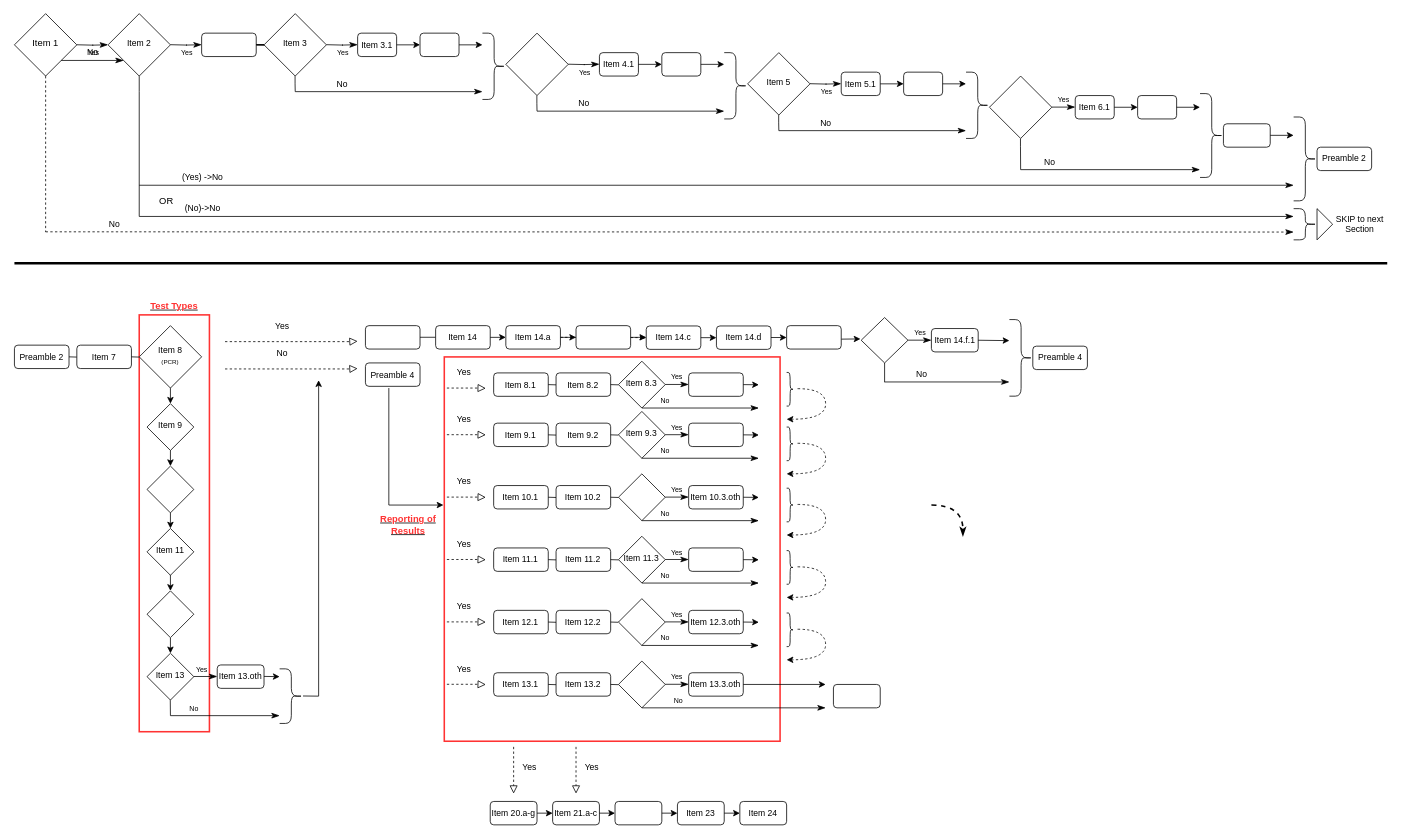
This 1402x838 diagram has some shape labels left out. The shapes that lost their labels are listed below. From the top down, each one's centre as x and y in pixels, then its label:
the point at 228,44: Preamble 1
the point at 439,44: Item 3.2
the point at 536,64: Item 4
the point at 681,64: Item 4.2
the point at 923,83: Item 5.2
the point at 1020,106: Item 6
the point at 1157,107: Item 6.2
the point at 1246,135: Item 7.new
the point at 392,337: Preamble 3
the point at 603,337: Item 14.b
the point at 813,337: Item 14.e
the point at 884,340: Item 14.f
the point at 715,384: Item 8.3.oth
the point at 715,434: Item 9.3.oth
the point at 170,489: Item 10
the point at 641,497: Item 10.3
the point at 715,559: Item 11.3.oth
the point at 170,614: Item 12
the point at 641,621: Item 12.3
the point at 641,684: Item 13.3
the point at 856,696: Item 20.stem
the point at 638,813: Preamble 5
